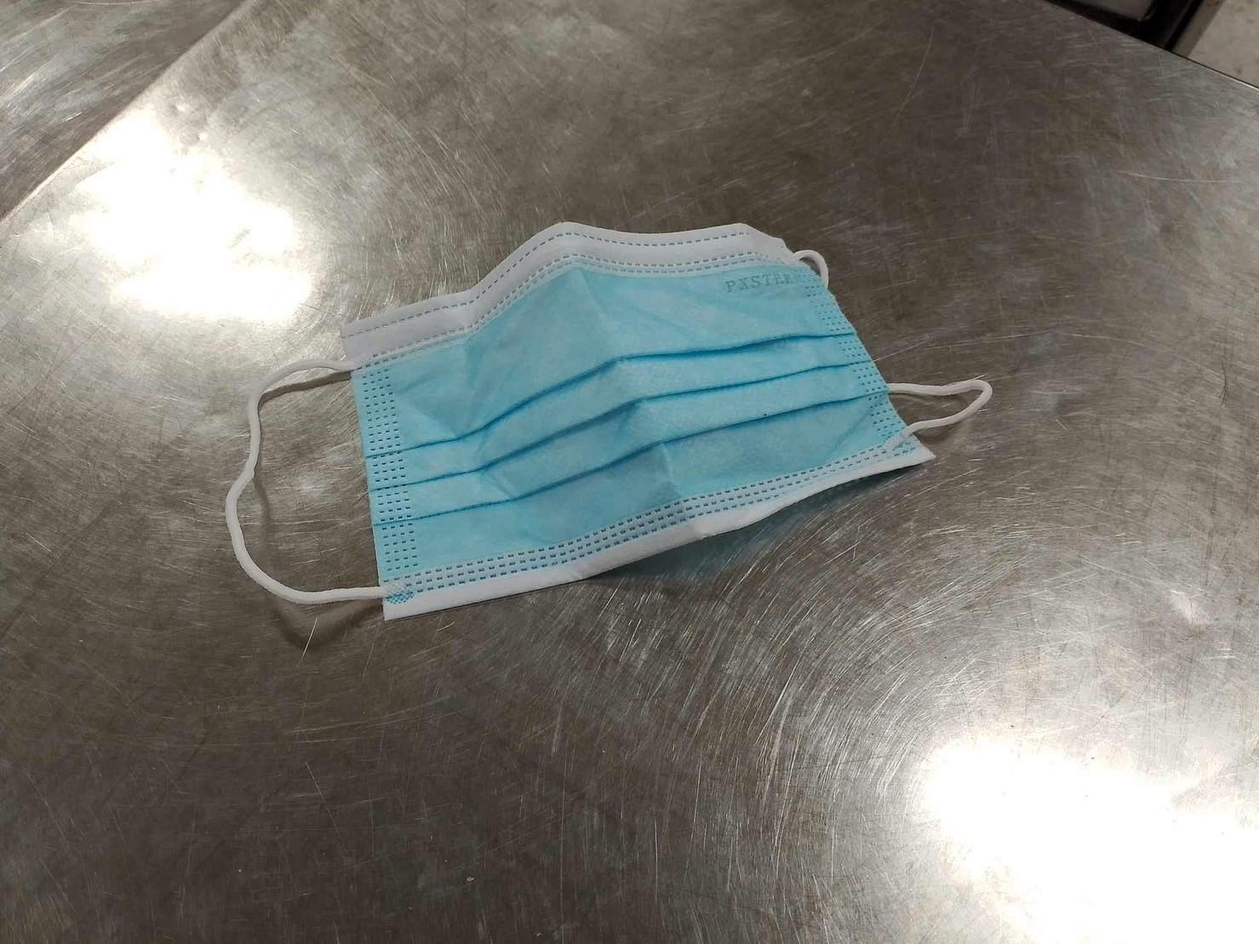Infectious: (223, 218, 991, 621)
